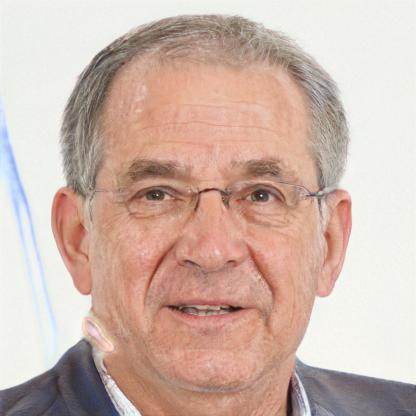glasses: (98, 176, 326, 234)
